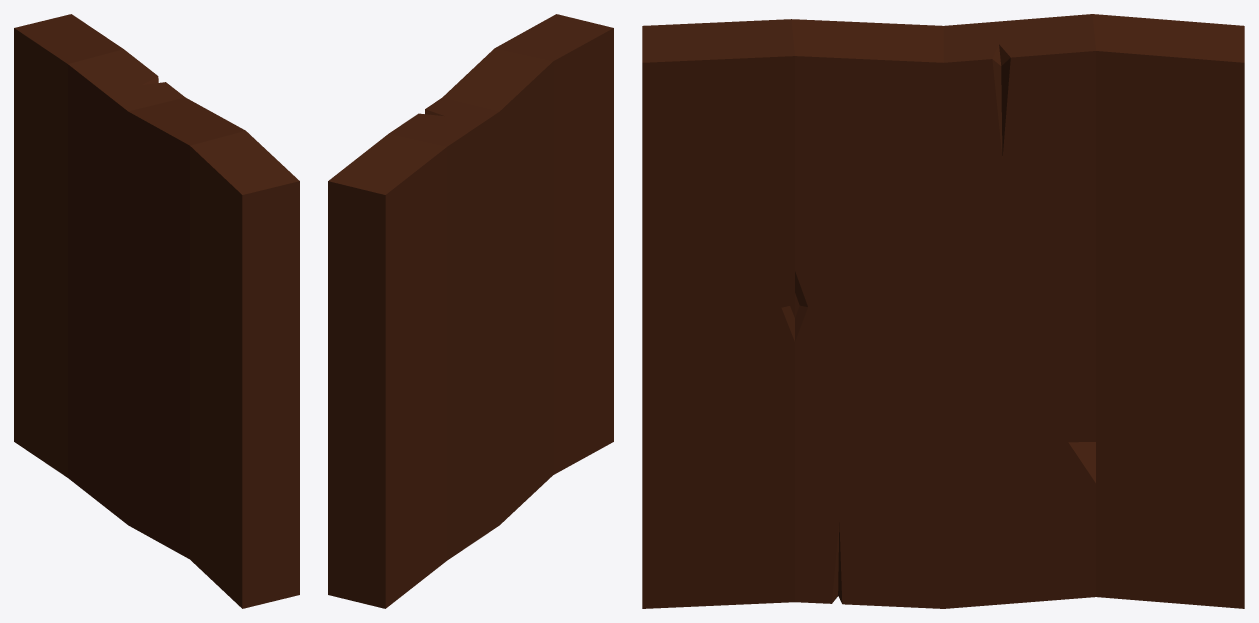
Rendered from PAREDE_01.fbx.
3 renders of one model, left to right at view 1: azimuth 30°, elevation 25°; view 2: azimuth 150°, elevation 25°; view 3: azimuth 270°, elevation 25°, orthographic. The views are drawn at different scales.
Visible parts, largest first — view 1: Parede_01; view 2: Parede_01; view 3: Parede_01.
Boxes of the visible parts, x1,y1,x2,y2 form: Parede_01: (14,14,299,608); Parede_01: (328,14,613,608); Parede_01: (642,14,1244,608).
Size of the model in its own units: 33.03 by 203 by 200.
